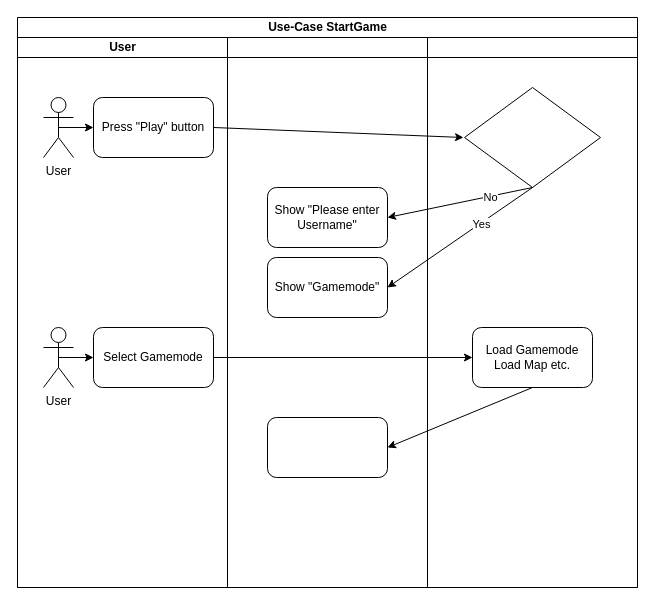
This 655x605 diagram has some shape labels left out. Each missing label, with the box of its shape:
Backend: (426, 36, 638, 588)
Show Game: (266, 416, 388, 478)
UI: (226, 36, 428, 588)
Username entered?: (464, 86, 600, 188)
